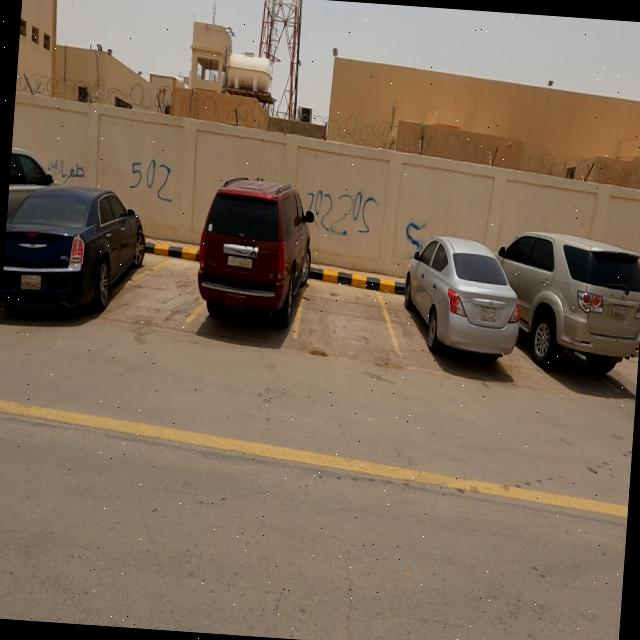Graffiti: (313, 187, 379, 237), (127, 156, 175, 205), (47, 156, 85, 184), (400, 217, 426, 252), (303, 186, 316, 210)
